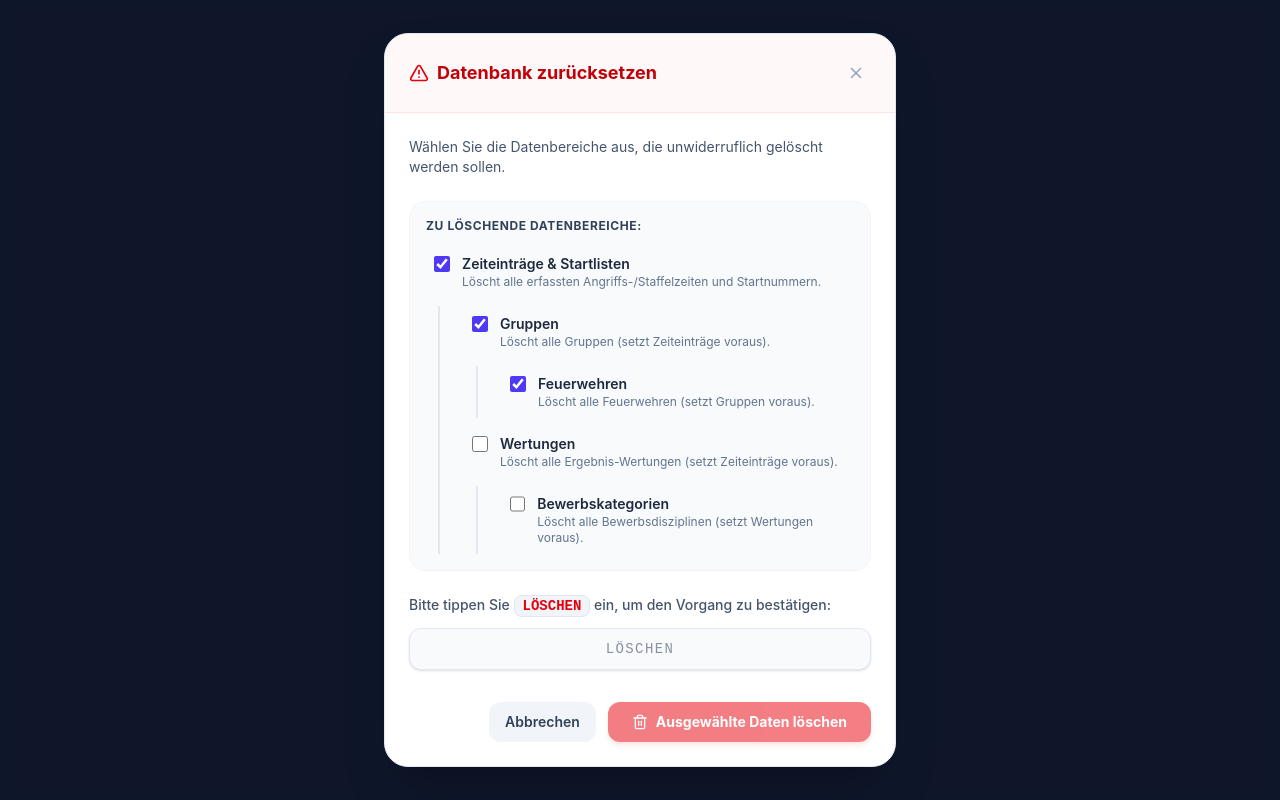
it: DatabaseResetModal › cascades checking child (Bewerbskategorien) to automatically check parent scopes
Expected: the checkbox named "scope-evaluation-types" is not checked, [472, 436, 488, 452]
Note: Check Bewerbskategorien
Click the checkbox named "scope-category-types" at (518, 504), box [510, 496, 525, 512]
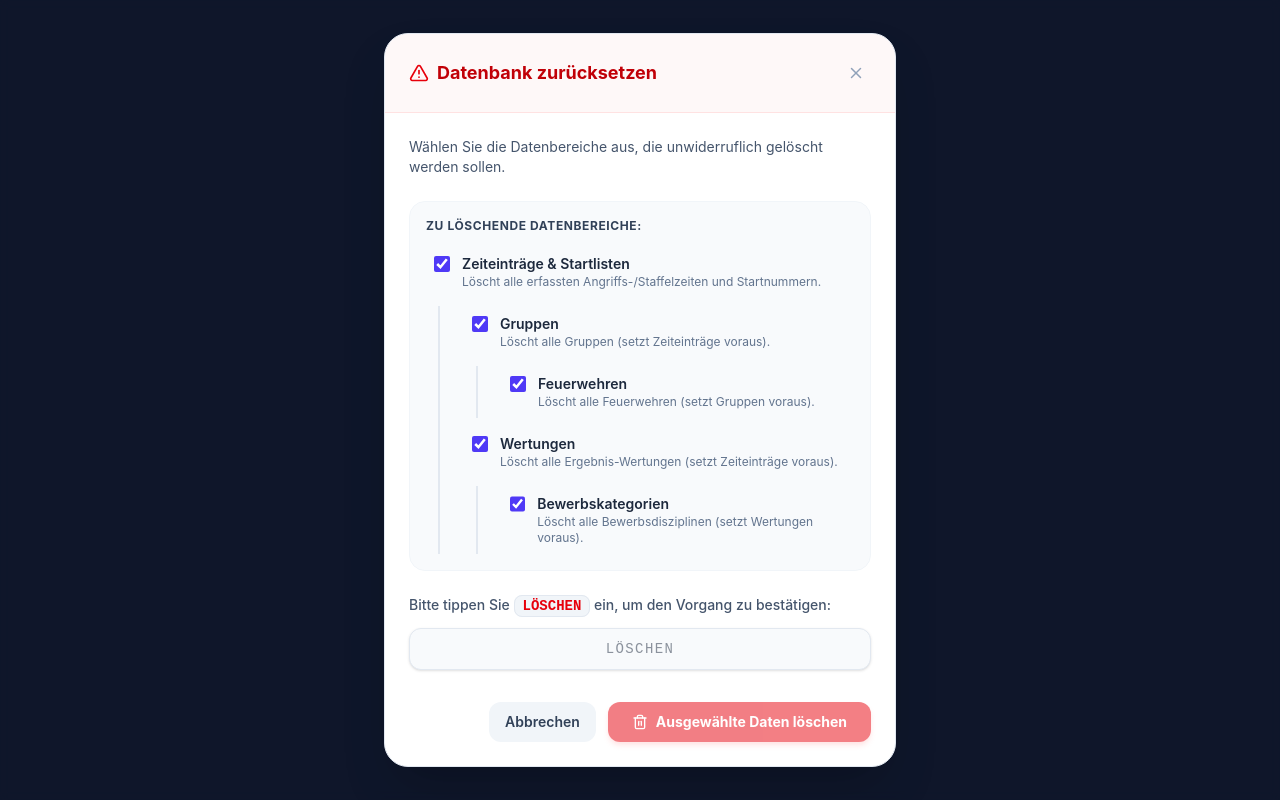
Expected: the checkbox named "scope-category-entries" is checked, [434, 256, 450, 272]
Now the checkbox named "scope-category-types" is checked, box [510, 496, 525, 512]
Now the checkbox named "scope-evaluation-types" is checked, box [472, 436, 488, 452]
